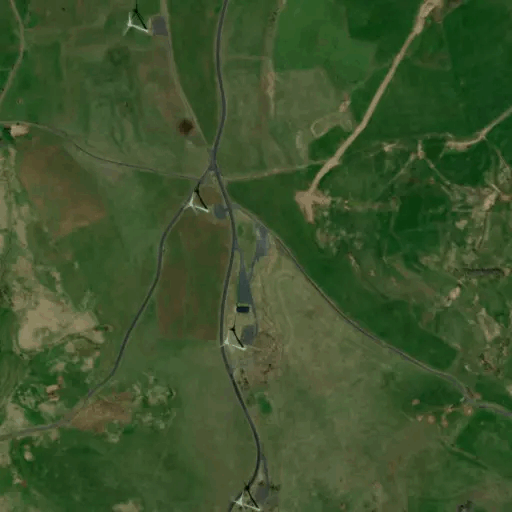wt: (115, 1, 154, 40), (213, 319, 251, 356), (177, 183, 214, 220), (227, 478, 265, 512)
